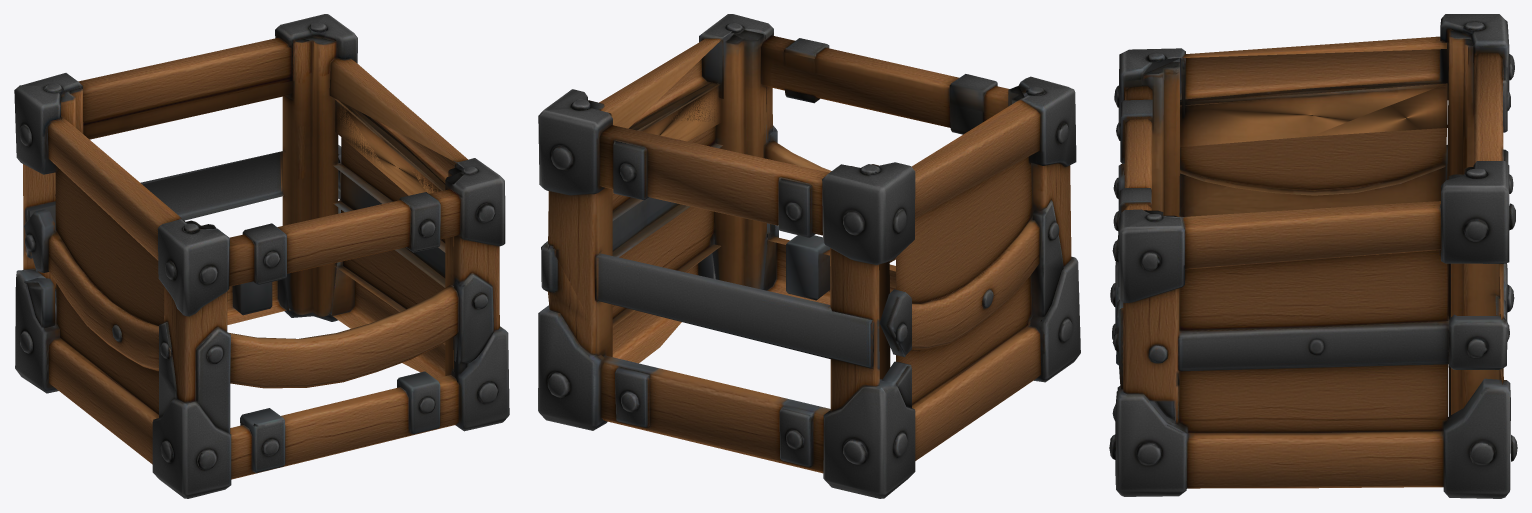
Rendered from stone+storrage+empty.glb.
3 views of the same model, side by side, from view 1: azimuth 30°, elevation 25°; view 2: azimuth 150°, elevation 25°; view 3: azimuth 270°, elevation 25° (orthographic). The views are drawn at different scales.
Visible parts, largest first — view 1: tripo_node_b404bf77-3b93-48b6-975c-fc5c9df8fb41; view 2: tripo_node_b404bf77-3b93-48b6-975c-fc5c9df8fb41; view 3: tripo_node_b404bf77-3b93-48b6-975c-fc5c9df8fb41.
Part boxes in pixels (box(x1,y1,x2,y2)): tripo_node_b404bf77-3b93-48b6-975c-fc5c9df8fb41: box(14, 14, 509, 498); tripo_node_b404bf77-3b93-48b6-975c-fc5c9df8fb41: box(538, 14, 1080, 498); tripo_node_b404bf77-3b93-48b6-975c-fc5c9df8fb41: box(1109, 14, 1517, 498).
Bounding box in the file's own units: 0.998 × 0.8418 × 0.959.
1 material, 1 textured.
